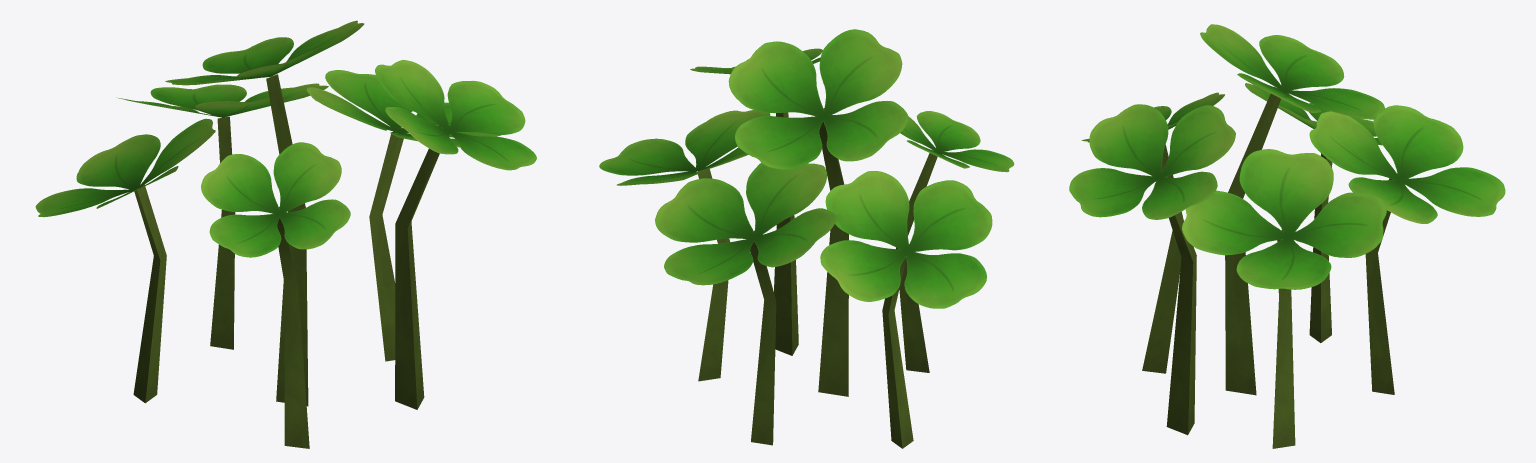
File: flower6.fbx
The picture shows the model from 3 angles, left to right: view 1: azimuth 30°, elevation 25°; view 2: azimuth 150°, elevation 25°; view 3: azimuth 270°, elevation 25°; orthographic projection. The views are drawn at different scales.
Visible parts, largest first — view 1: polySurface2269; view 2: polySurface2269; view 3: polySurface2269.
Boxes of the visible parts, x1,y1,x2,y2 form: polySurface2269: (35,20,536,448); polySurface2269: (599,29,1014,448); polySurface2269: (1069,24,1505,448).
Size of the model in its own units: 0.8219 by 0.6465 by 0.7654.
